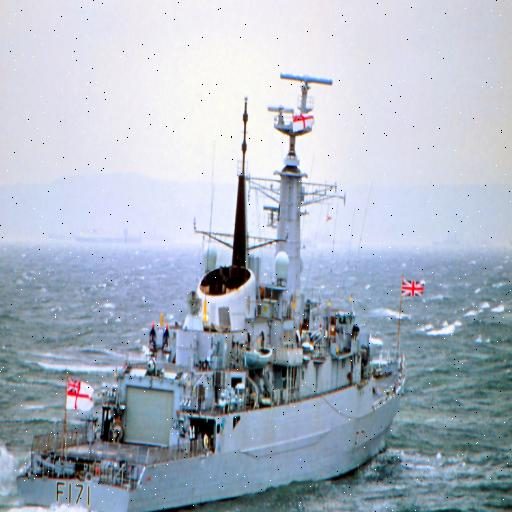Fragata: (14, 55, 414, 512)
